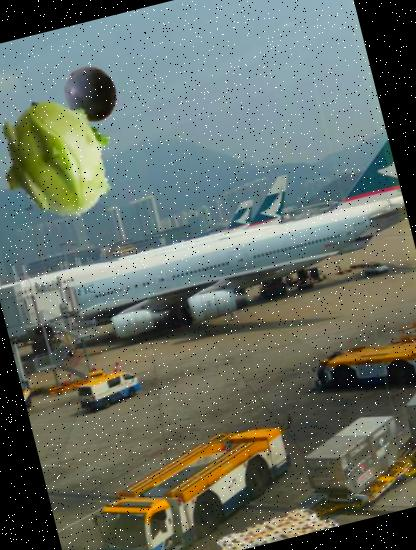Kohlrabi: (0, 82, 135, 234)
Lychee: (1, 100, 124, 222)
Plum: (56, 58, 127, 130)
